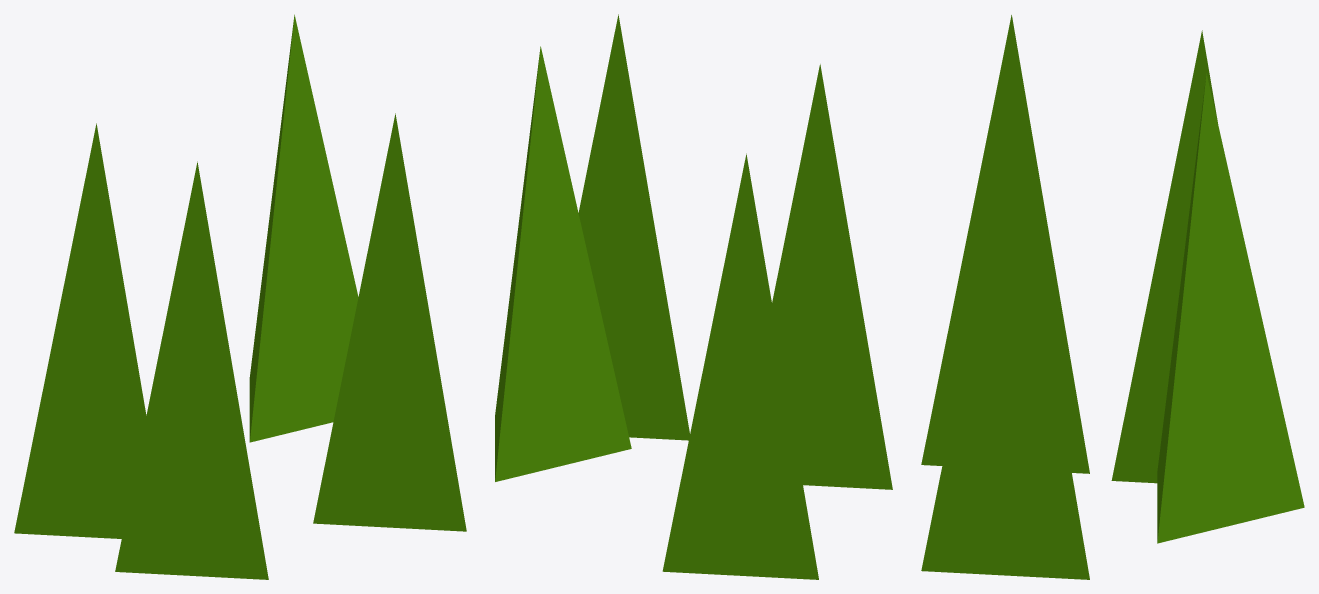
File: Grass.fbx
3 views of the same model, side by side, from view 1: azimuth 30°, elevation 25°; view 2: azimuth 150°, elevation 25°; view 3: azimuth 270°, elevation 25° (orthographic). The views are drawn at different scales.
Visible parts, largest first — view 1: Cone; view 2: Cone; view 3: Cone.
Boxes of the visible parts, bbox=[...] form: Cone: bbox=[14, 14, 466, 579]; Cone: bbox=[495, 14, 892, 579]; Cone: bbox=[921, 15, 1304, 579].
Bounding box in the file's own units: 33.13 × 41.84 × 29.13.
